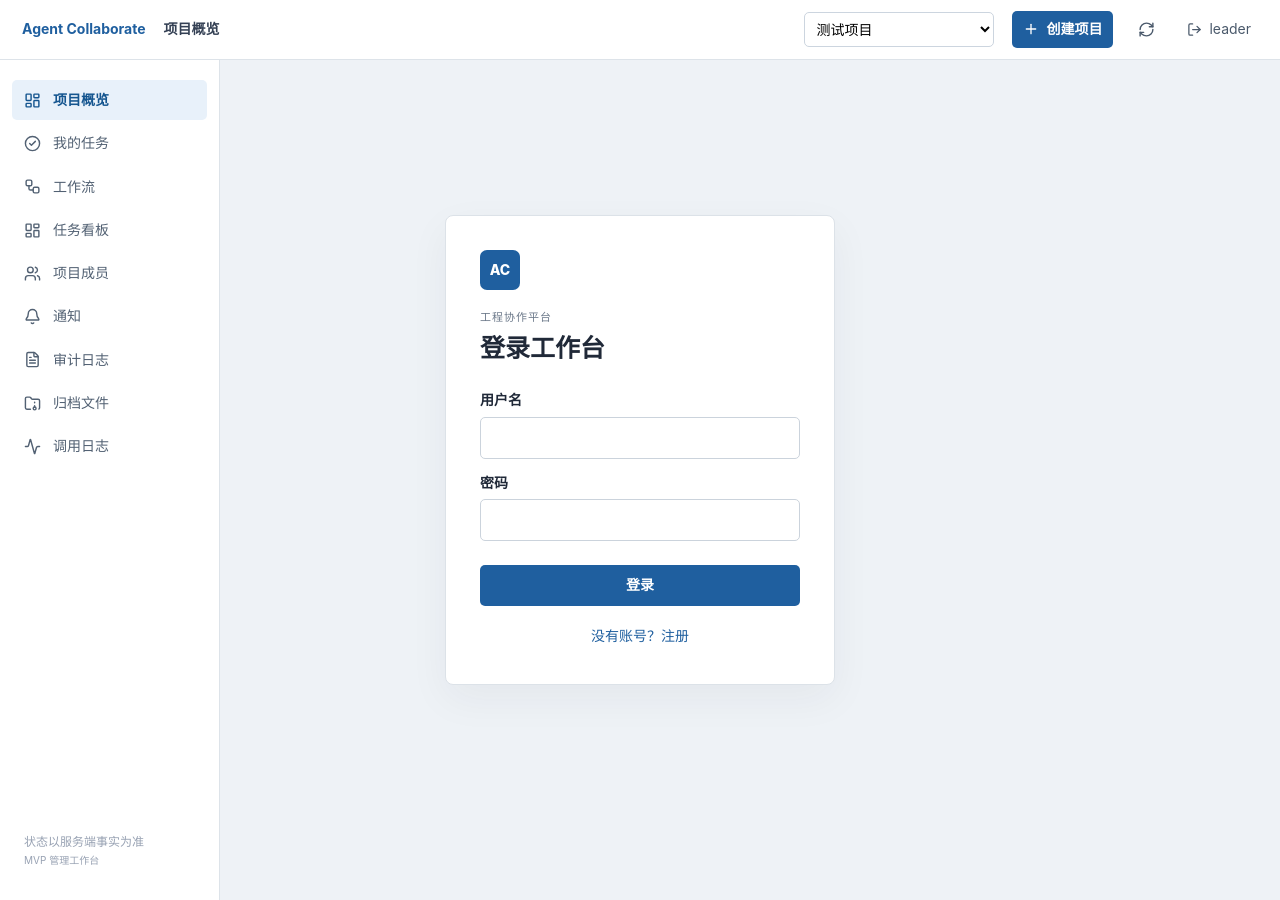
Test case: project-scoped navigation › lets a project leader invite a registered user by username
This screenshot has width=1280, height=900.
Click the button "项目成员". click: (110, 273)
box: [12,253,207,294]
(page scrolled)
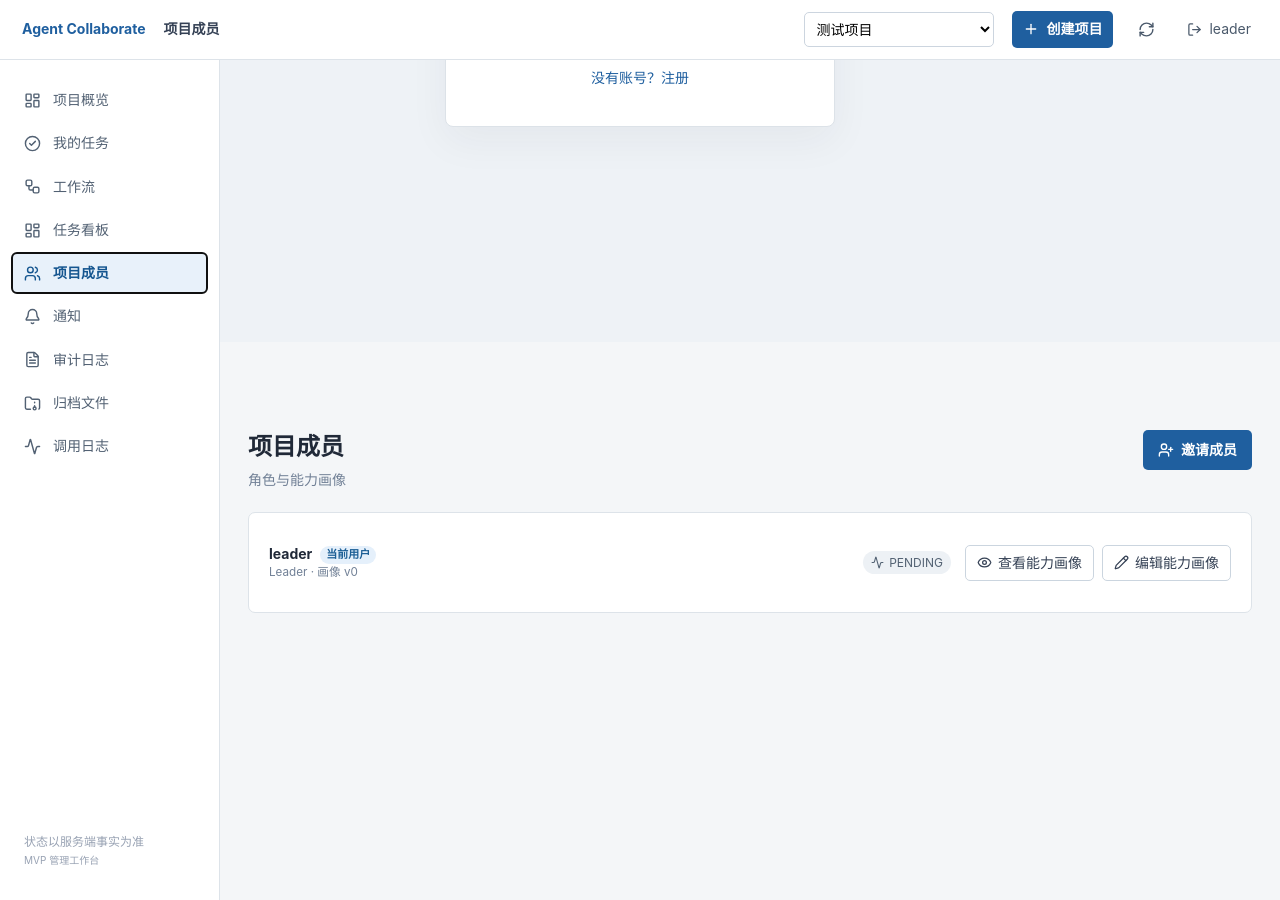
Result: the text "leader 当前用户" is shown at [269,545,376,564]
Click the button "邀请成员". click: (1198, 450)
box: [1143,430,1252,470]
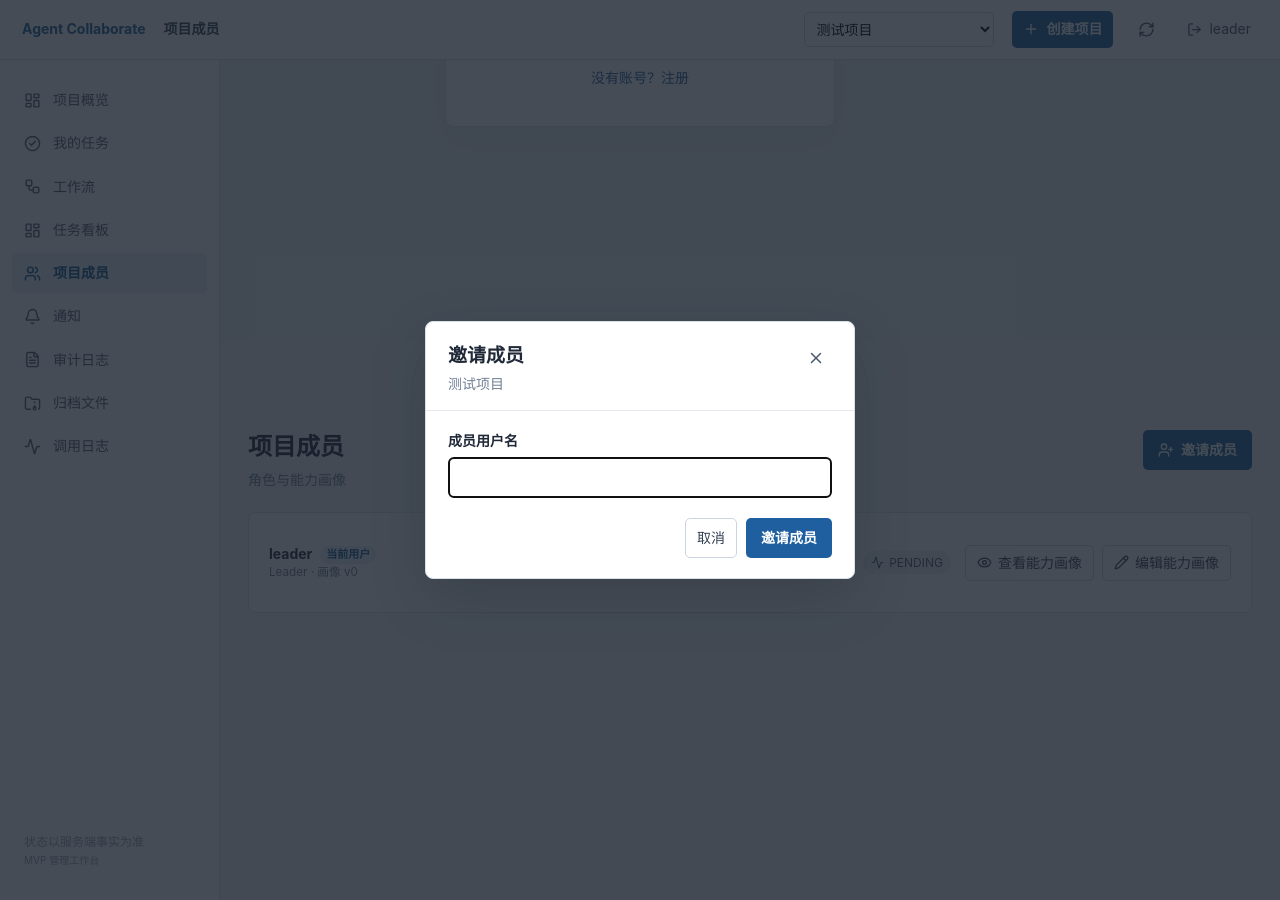
Type "member" into the field labelled "成员用户名". click: (640, 477)
box: [448,457,832,498]
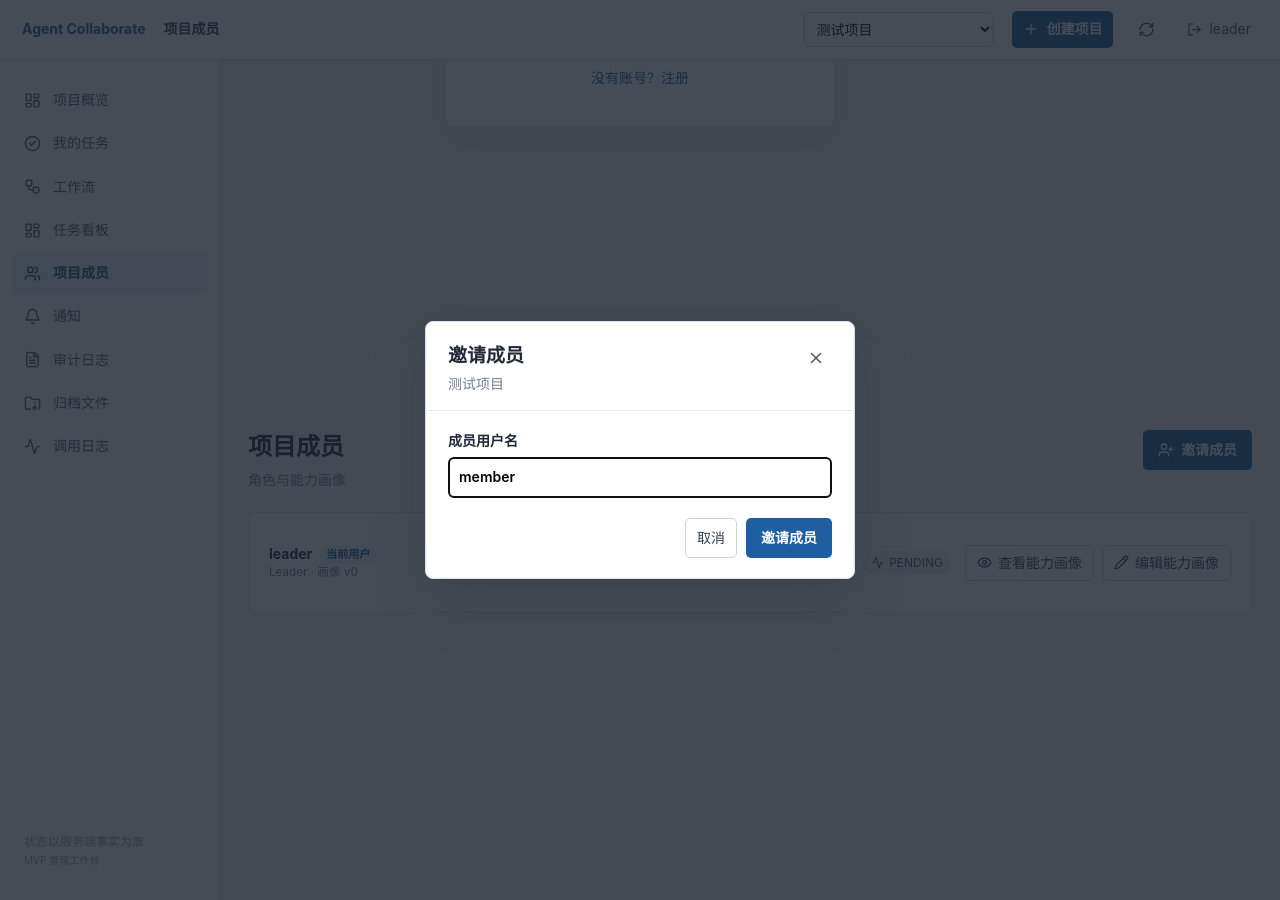
Click the button "邀请成员". click: (789, 538)
box: [746,518,832,558]
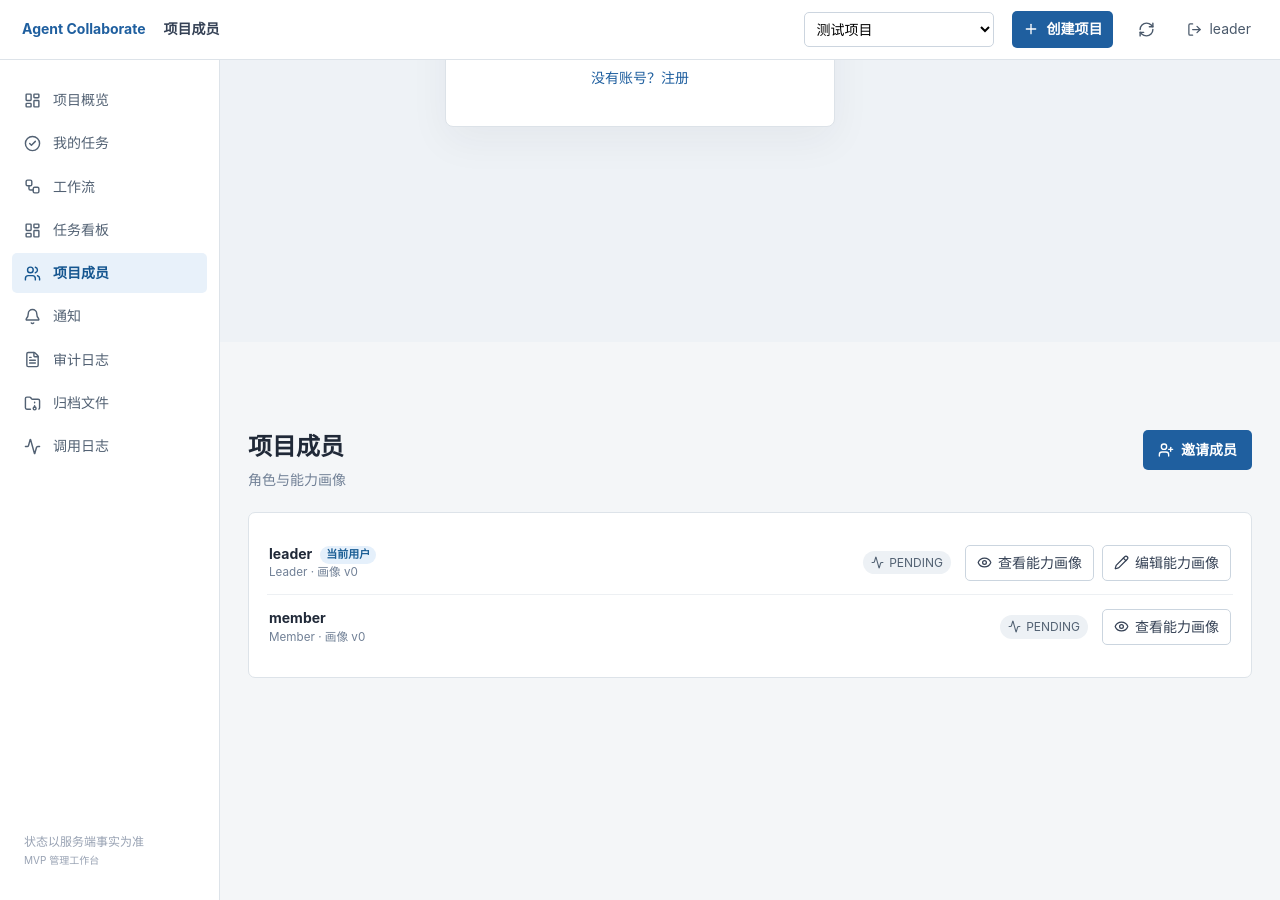
Result: the text "Member · 画像 v0" is shown at [269,630,365,644]
